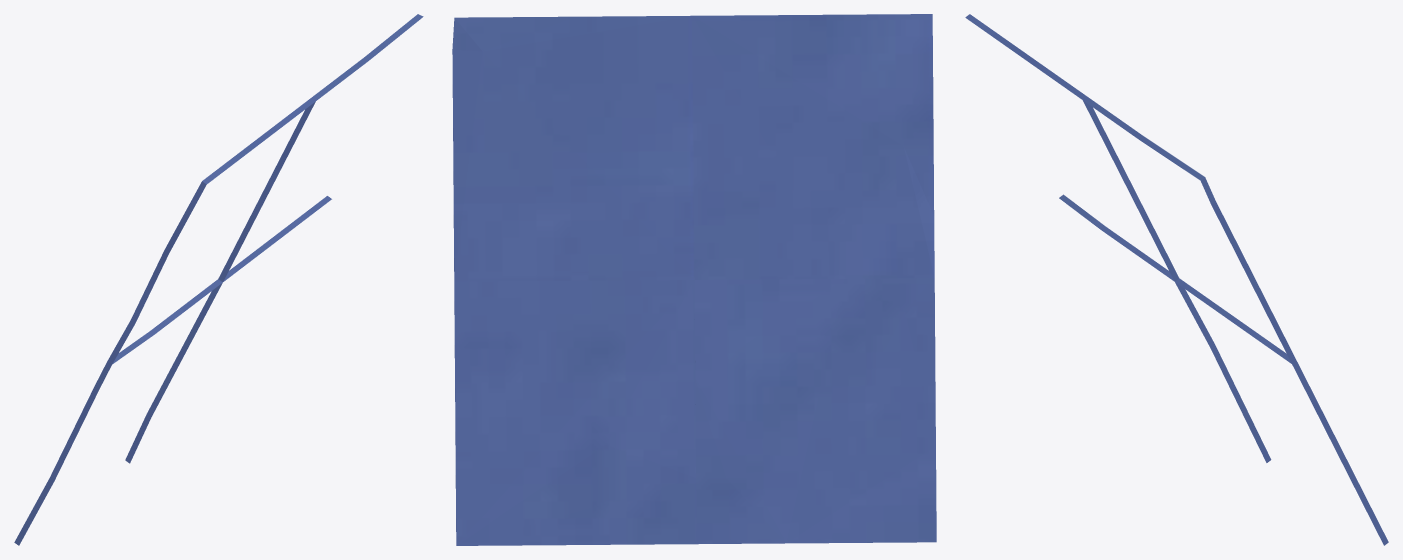
The picture shows the model from 3 angles, left to right: view 1: azimuth 30°, elevation 25°; view 2: azimuth 150°, elevation 25°; view 3: azimuth 270°, elevation 25°; orthographic projection. The views are drawn at different scales.
Size of the model in its own units: 19722 by 17846 by 16579.
1 material, 1 textured.
